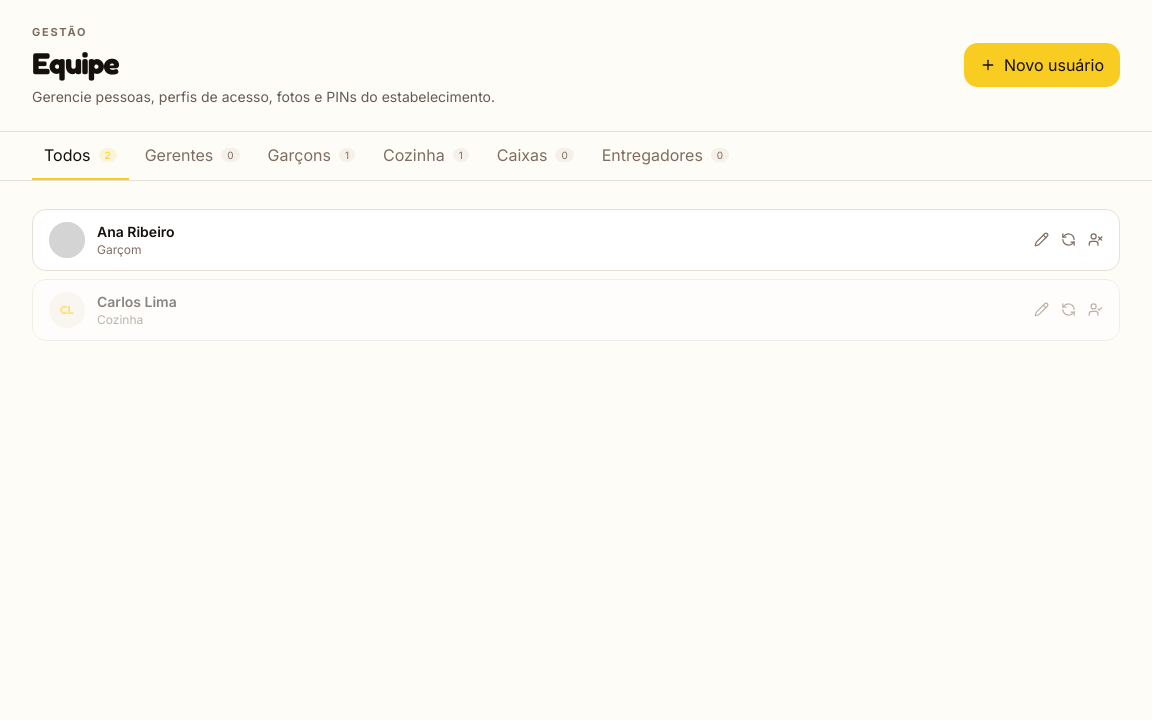
Test case: UsersTab › botão de editar abre o UserModal com os dados do usuário
The width and height of the screenshot is (1152, 720).
Expected: the text "Ana Ribeiro" is shown, [97, 222, 175, 242]
Click the button named "Editar Ana Ribeiro" at (1042, 240), box [1034, 232, 1049, 247]
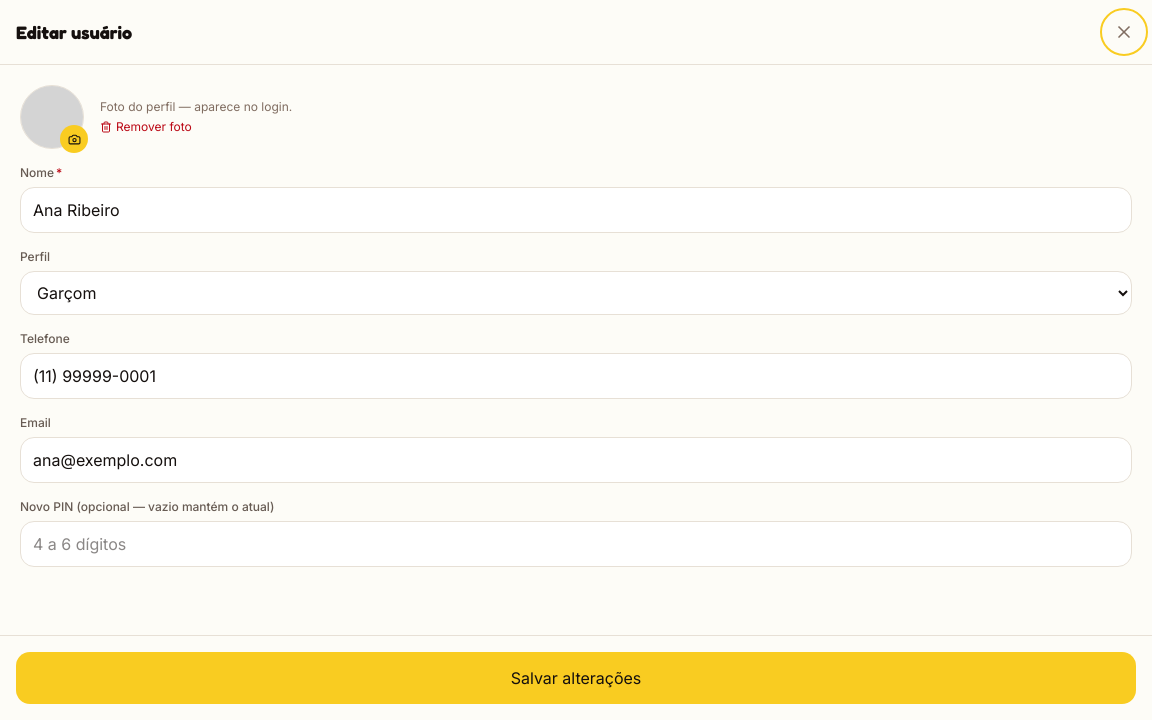
Expected: the dialog "Editar usuário" is shown
Expected: the field showing "Ana Ribeiro" is shown, [20, 187, 1132, 233]
Expected: the field showing "(11) 99999-0001" is shown, [20, 353, 1132, 399]
